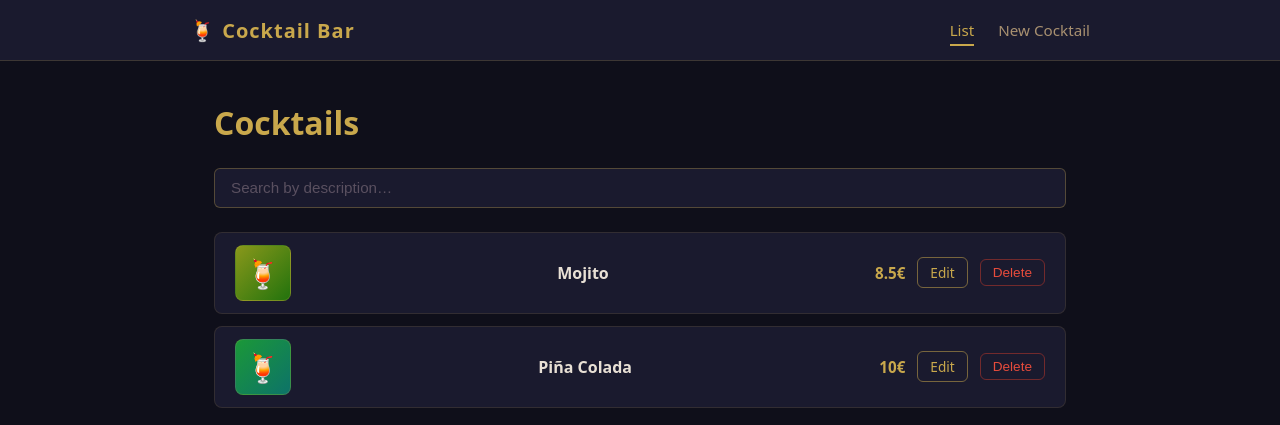
Cocktail List page › should filter results when a search term is typed
The width and height of the screenshot is (1280, 425).
Type "mojito" into the field with id "search" at (640, 188), box [214,168,1066,208]
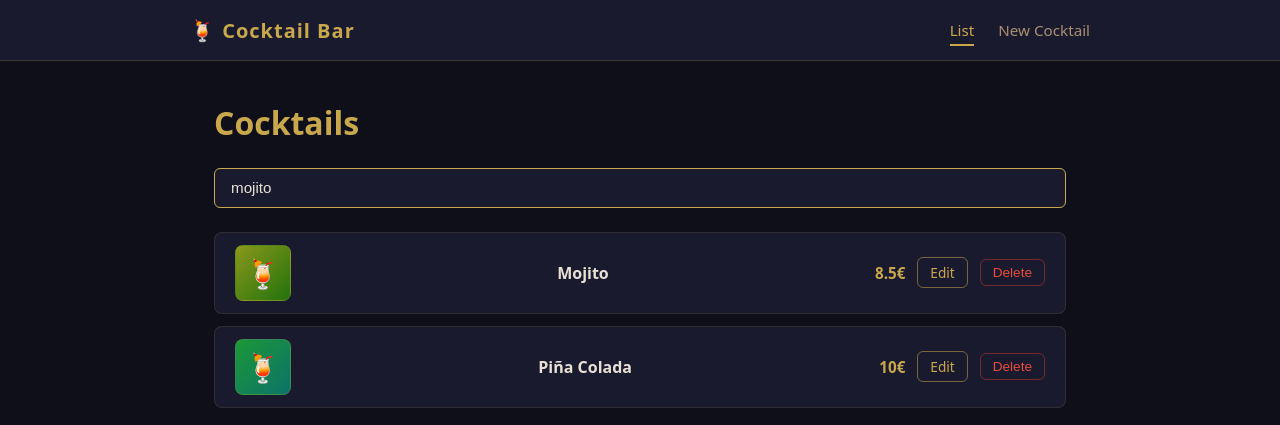
Wait "300"
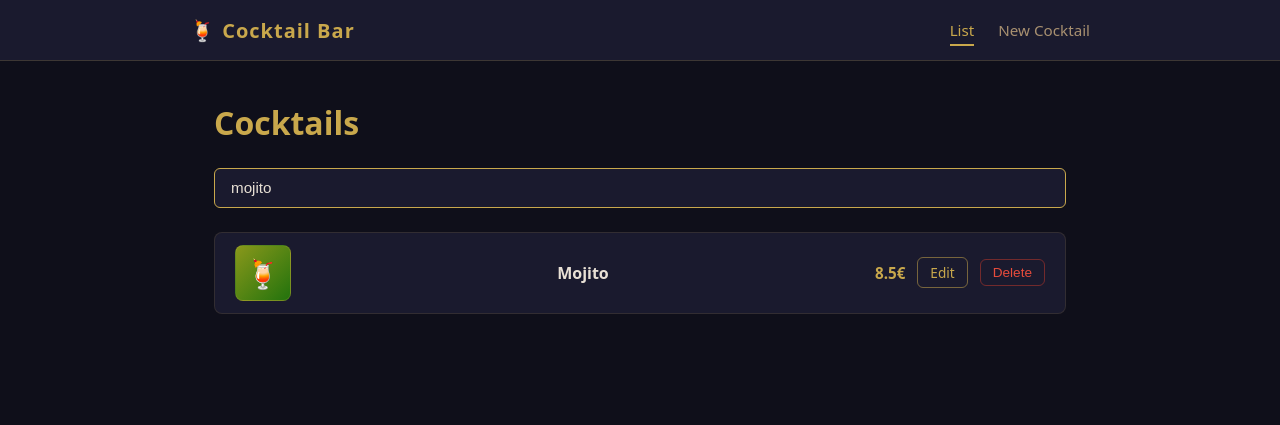
Expected: the text with class "cocktail-title" reads "Mojito", [557,262,609,284]
Result: the number of links with class "cocktail-card" is 1 at [214,232,1066,314]
